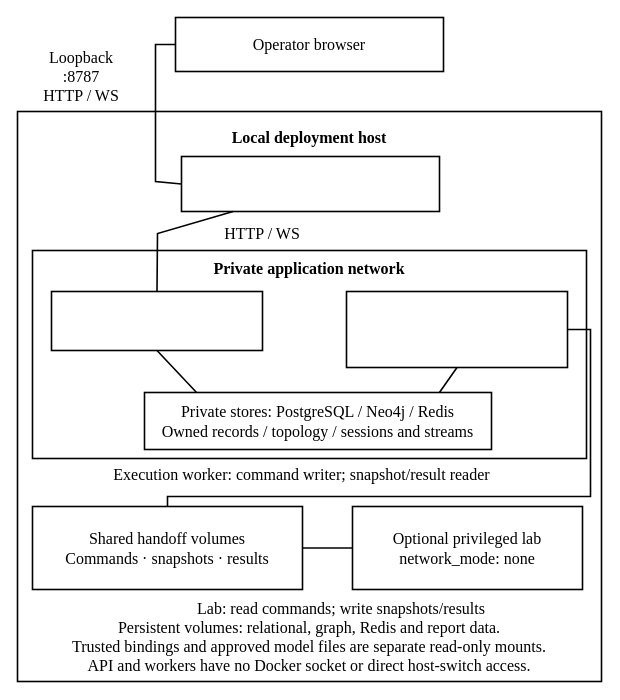
Some shapes in this 620 by 700 pixel diagram are drawn without their labels. The shapes that lost their labels are listed below. From the top down, each one's centre as x and y in pixels, then its label:
the point at 310,183: Frontend gateway
the point at 156,320: One API process
the point at 456,329: Independent workers Execution, autonomy, simulation, override, report and alert
